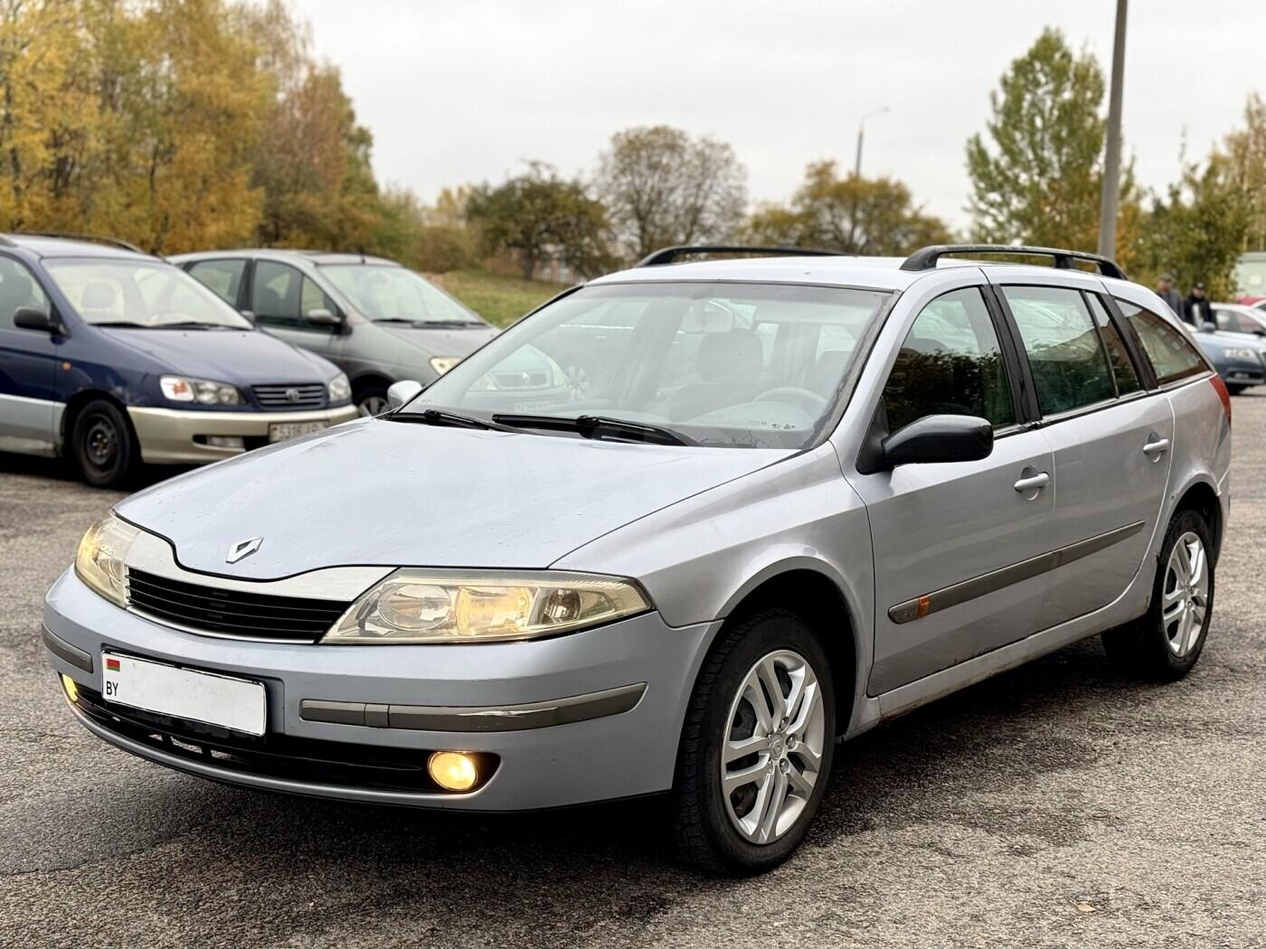Laguna_2001-2005: (43, 247, 1231, 874)
